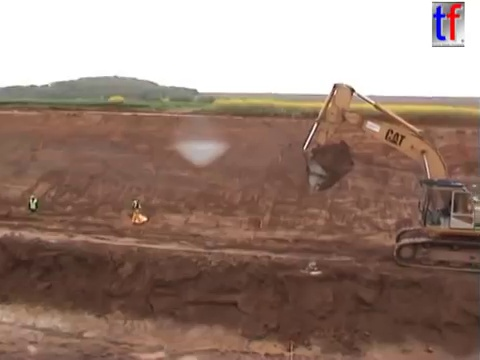excavator: (299, 80, 480, 277)
worker: (25, 192, 42, 223), (128, 197, 145, 225)
